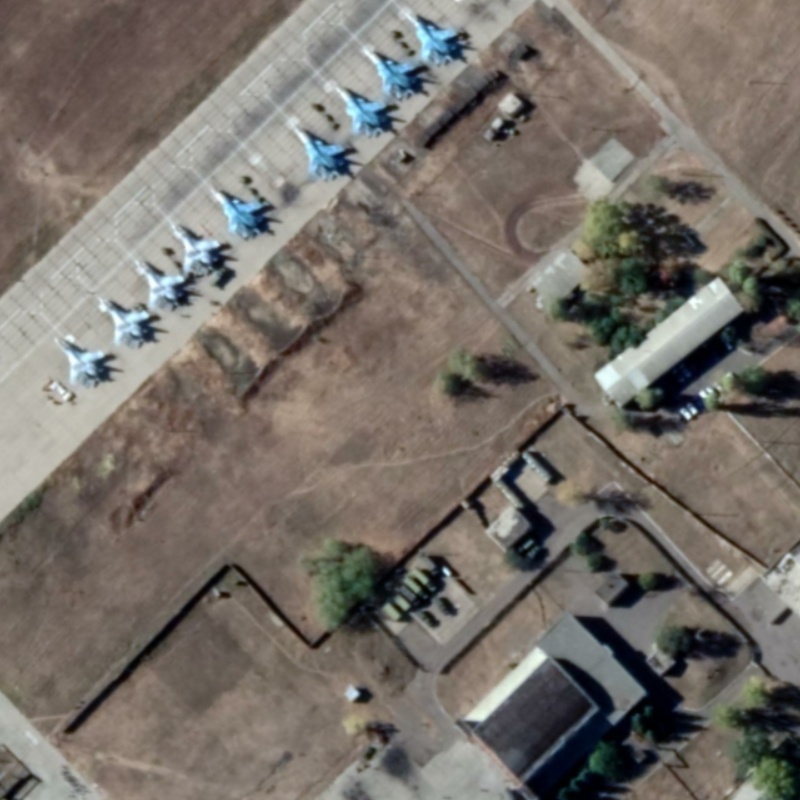A1: (130, 254, 192, 313), (95, 292, 157, 349), (169, 219, 226, 277), (53, 332, 110, 390)
A19: (205, 183, 276, 241), (288, 122, 354, 184), (401, 7, 466, 67), (363, 44, 429, 100), (331, 84, 391, 138)
